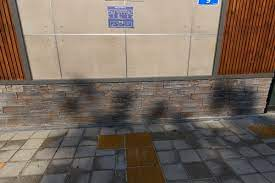guide_blocks: (128, 148, 163, 182), (98, 132, 153, 147)
